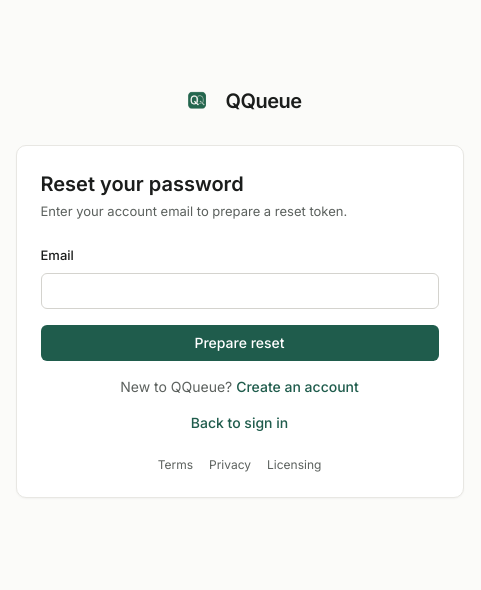
Login › requests a password reset and shows the development token
Type "a@b.com" into the field labelled "Email" at point(240, 290), box top-left (40, 272), bottom-right (438, 308)
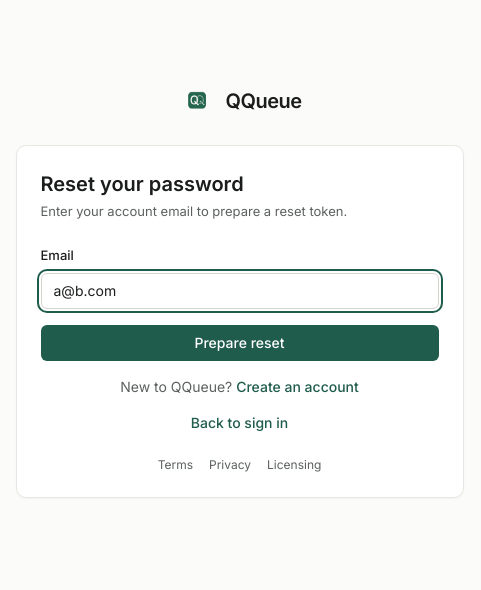
Click the button "Prepare reset" at point(240, 342), box top-left (40, 324), bottom-right (438, 360)
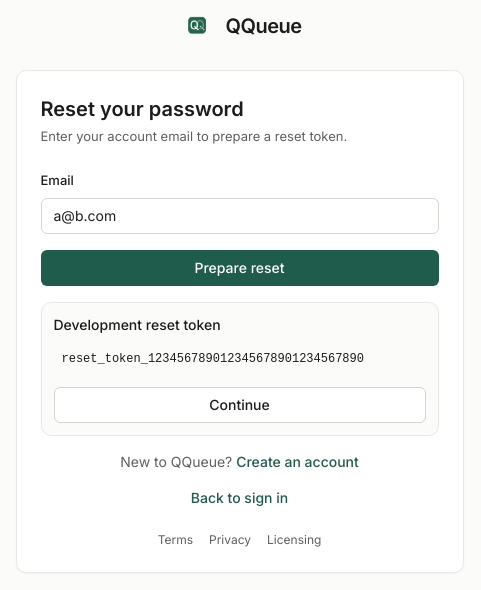
Now the text "Development reset token" is shown, box top-left (54, 316), bottom-right (221, 332)
